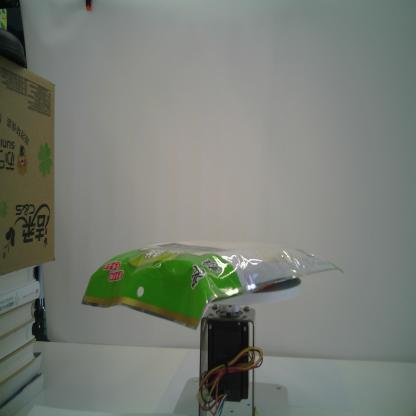Dried Food: (78, 235, 345, 334)
